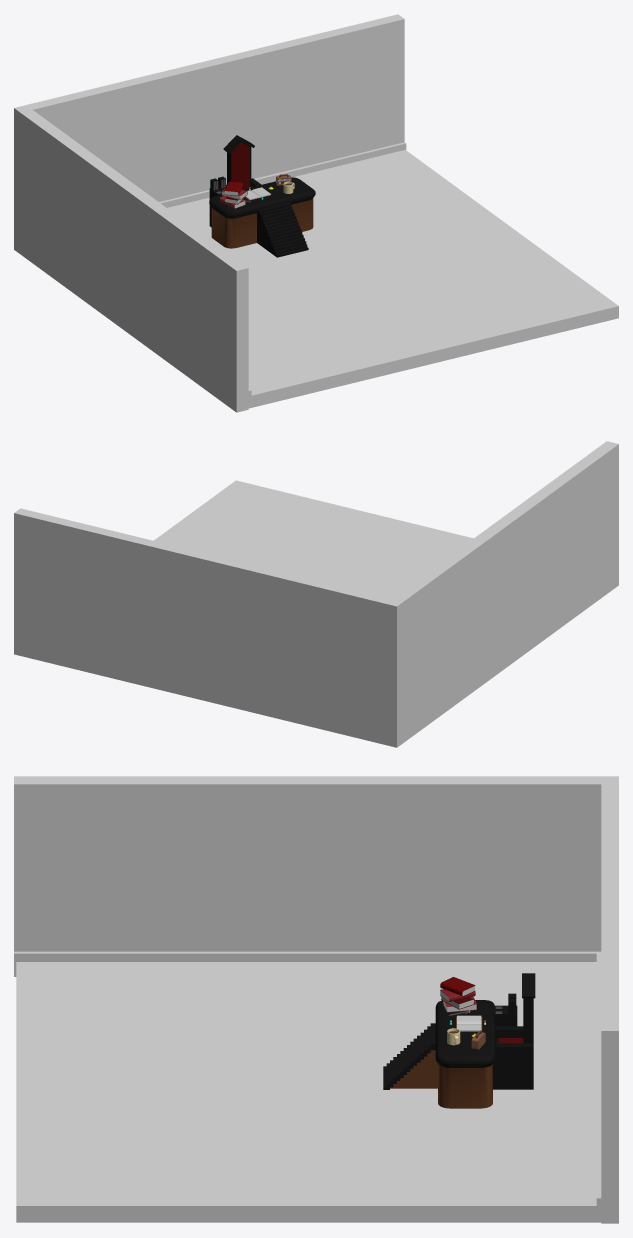
Rendered from main3.fbx.
The picture shows the model from 3 angles, top to bottom: view 1: azimuth 30°, elevation 25°; view 2: azimuth 150°, elevation 25°; view 3: azimuth 270°, elevation 25°; orthographic projection. The views are drawn at different scales.
Parts seen in each view (by area): view 1: Cube.001, Cube, Cube.002, Plane, Cube.004; view 2: Cube.001, Cube; view 3: Cube, Cube.001, Cube.002, Cube.004, Plane.
Part boxes in pixels (<box>): Cube.001: <box>14,14,406,412</box>; Cube: <box>167,150,618,408</box>; Cube.002: <box>209,177,315,248</box>; Plane: <box>257,202,308,257</box>; Cube.004: <box>223,135,261,189</box>; Cube.001: <box>14,441,618,747</box>; Cube: <box>154,480,473,598</box>; Cube: <box>16,962,601,1222</box>; Cube.001: <box>14,776,618,1223</box>; Cube.002: <box>435,1000,517,1108</box>; Cube.004: <box>493,973,535,1089</box>; Plane: <box>383,1023,437,1089</box>.
Size of the model in its own units: 612 by 216 by 614.
